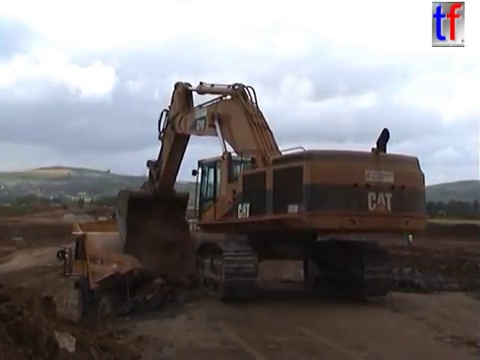excavator: (111, 79, 432, 309), (106, 209, 134, 225)
truck: (54, 221, 247, 328), (60, 203, 70, 212), (76, 201, 85, 210)
worker: (404, 223, 418, 249)
